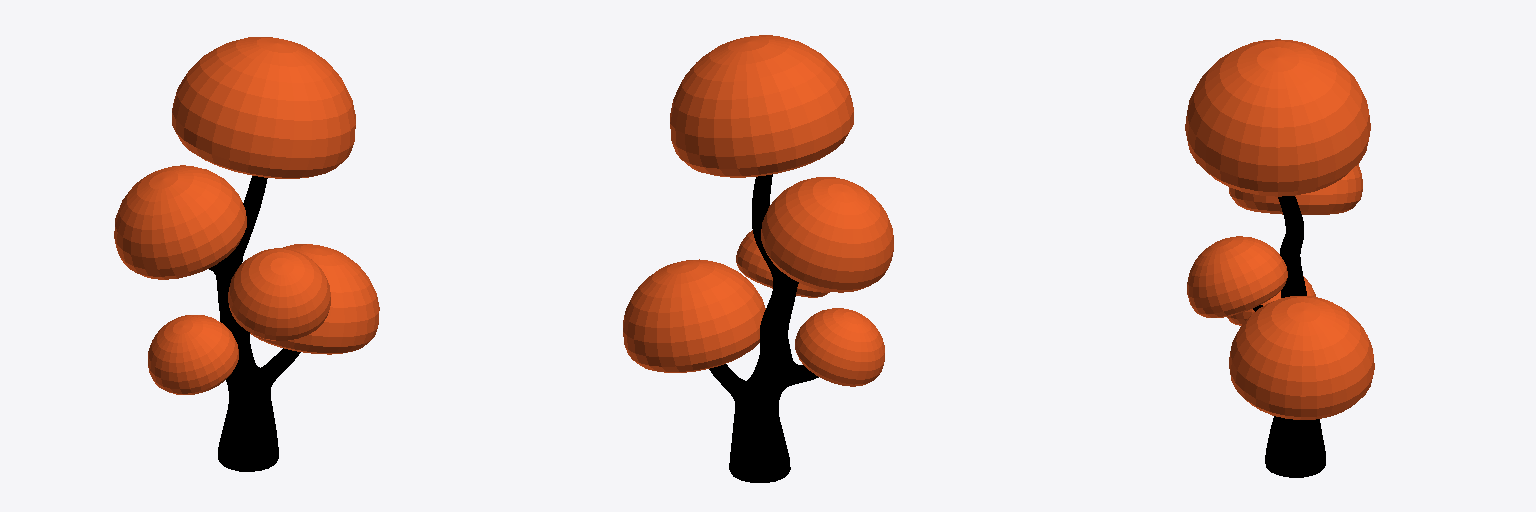
The picture shows the model from 3 angles: view 1: azimuth 30°, elevation 25°; view 2: azimuth 150°, elevation 25°; view 3: azimuth 270°, elevation 25°; orthographic projection.
Visible parts, largest first — view 1: outdoor_autumn_tree_1268_leaf, outdoor_autumn_tree_1268_branch; view 2: outdoor_autumn_tree_1268_leaf, outdoor_autumn_tree_1268_branch; view 3: outdoor_autumn_tree_1268_leaf, outdoor_autumn_tree_1268_branch.
Boxes of the visible parts, x1,y1,x2,y2 form: outdoor_autumn_tree_1268_leaf: [114, 37, 379, 394]; outdoor_autumn_tree_1268_branch: [209, 176, 300, 471]; outdoor_autumn_tree_1268_leaf: [623, 35, 893, 386]; outdoor_autumn_tree_1268_branch: [709, 174, 818, 482]; outdoor_autumn_tree_1268_leaf: [1185, 39, 1374, 419]; outdoor_autumn_tree_1268_branch: [1253, 196, 1325, 477].
Size of the model in its own units: 7.12 by 11.41 by 4.68.
Materials: 2 (1 with a texture image).